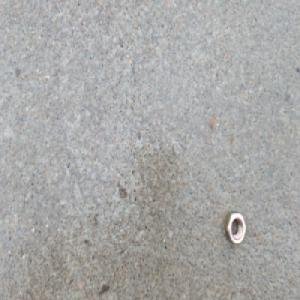Nut: (223, 209, 247, 247)
